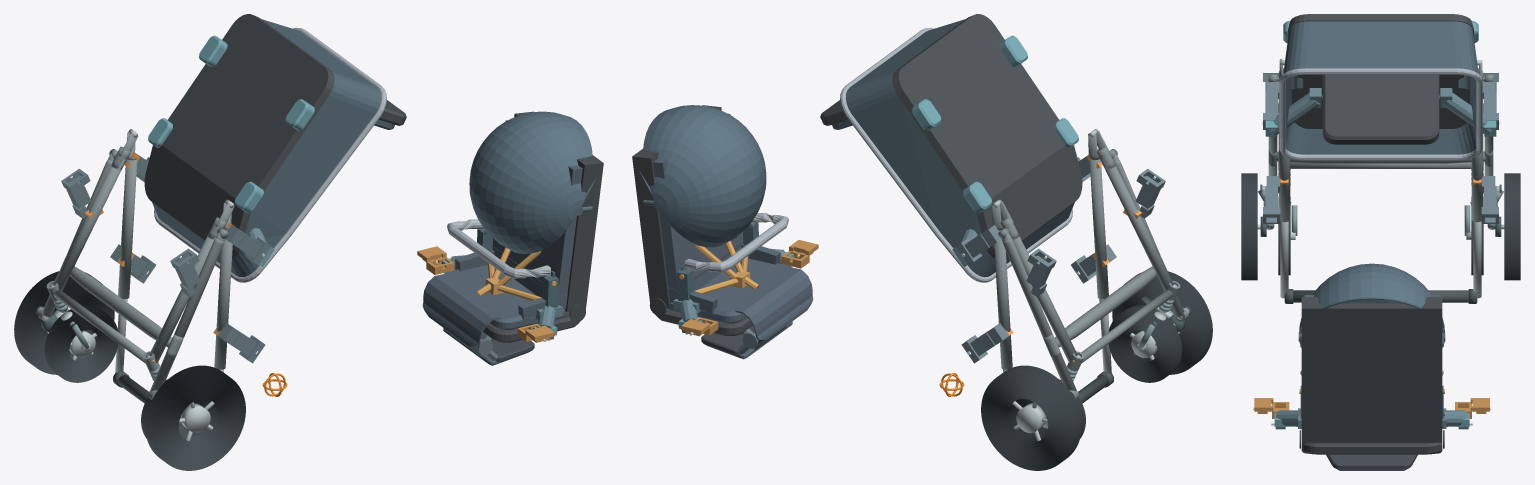
File: D20_w650_state3_wheel_M.glb
3 renders of one model, left to right at view 1: azimuth 30°, elevation 25°; view 2: azimuth 150°, elevation 25°; view 3: azimuth 270°, elevation 25°, orthographic.
Parts seen in each view (by area): view 1: D20_Lower, D20_Upper, RL_tire.011, FR_tire.011, RR_tire.011, main_upper_1.012, main_lower_1.012, V46_rearbar.011, V46_rear_leg_-1.011, main_upper_-1.012, main_lower_-1.012, front_fixed_round_tube.011 (+8 smaller); view 2: D20_Lower, D20_Upper, RR_tire.011, FL_tire.011, RL_tire.011, main_upper_-1.012, main_lower_-1.012, V46_rearbar.011, V46_rear_leg_1.011, main_upper_1.012, main_lower_1.012, front_fixed_round_tube.011 (+8 smaller); view 3: D20_Lower, D20_Upper, D20_Lower_Mount_M, RL_tire.011, RR_tire.011, front_fixed_round_tube.011, D20_Upper_Mount_H, main_upper_1.012, main_upper_-1.012, V46_rearbar.011, Universal_Cabin_Receiver_H_1, Universal_Cabin_Receiver_H_-1 (+9 smaller).
Part boxes in pixels (x1=…): D20_Lower: x1=144, y1=14, x2=406, y2=282; D20_Upper: x1=422, y1=111, x2=603, y2=365; RL_tire.011: x1=145, y1=365, x2=245, y2=470; FR_tire.011: x1=44, y1=305, x2=118, y2=382; RR_tire.011: x1=14, y1=271, x2=114, y2=374; main_upper_1.012: x1=118, y1=159, x2=137, y2=299; main_lower_1.012: x1=53, y1=159, x2=124, y2=290; V46_rearbar.011: x1=70, y1=266, x2=171, y2=347; V46_rear_leg_-1.011: x1=150, y1=238, x2=224, y2=391; main_upper_-1.012: x1=214, y1=230, x2=232, y2=369; main_lower_-1.012: x1=149, y1=236, x2=216, y2=362; front_fixed_round_tube.011: x1=53, y1=289, x2=145, y2=363; D20_Lower: x1=820, y1=14, x2=1082, y2=282; D20_Upper: x1=632, y1=105, x2=813, y2=359; RR_tire.011: x1=981, y1=365, x2=1081, y2=470; FL_tire.011: x1=1108, y1=305, x2=1182, y2=382; RL_tire.011: x1=1112, y1=271, x2=1212, y2=374; main_upper_-1.012: x1=1089, y1=159, x2=1108, y2=299; main_lower_-1.012: x1=1102, y1=159, x2=1173, y2=290; V46_rearbar.011: x1=1055, y1=266, x2=1156, y2=347; V46_rear_leg_1.011: x1=1002, y1=238, x2=1076, y2=391; main_upper_1.012: x1=994, y1=230, x2=1012, y2=369; main_lower_1.012: x1=1009, y1=234, x2=1077, y2=362; front_fixed_round_tube.011: x1=1081, y1=289, x2=1173, y2=363; D20_Lower: x1=1279, y1=14, x2=1482, y2=160; D20_Upper: x1=1298, y1=263, x2=1445, y2=470; D20_Lower_Mount_M: x1=1262, y1=88, x2=1499, y2=136; RL_tire.011: x1=1241, y1=173, x2=1257, y2=280; RR_tire.011: x1=1504, y1=173, x2=1520, y2=280; front_fixed_round_tube.011: x1=1290, y1=162, x2=1471, y2=168; D20_Upper_Mount_H: x1=1271, y1=408, x2=1472, y2=429; main_upper_1.012: x1=1471, y1=99, x2=1483, y2=222; main_upper_-1.012: x1=1278, y1=99, x2=1290, y2=222; V46_rearbar.011: x1=1275, y1=151, x2=1486, y2=163; Universal_Cabin_Receiver_H_1: x1=1481, y1=176, x2=1498, y2=223; Universal_Cabin_Receiver_H_-1: x1=1263, y1=176, x2=1280, y2=223.
Bounding box in the file's own units: 1.58 × 1.09 × 0.781.
